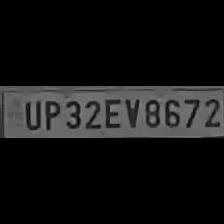2: (201, 96, 221, 128), (82, 97, 100, 130)
3: (61, 97, 80, 130)
6: (162, 95, 180, 129)
7: (182, 95, 200, 129)
8: (142, 96, 160, 130)
E: (102, 96, 120, 130)
P: (42, 97, 60, 130)
U: (20, 99, 40, 131)
V: (122, 96, 140, 130)
